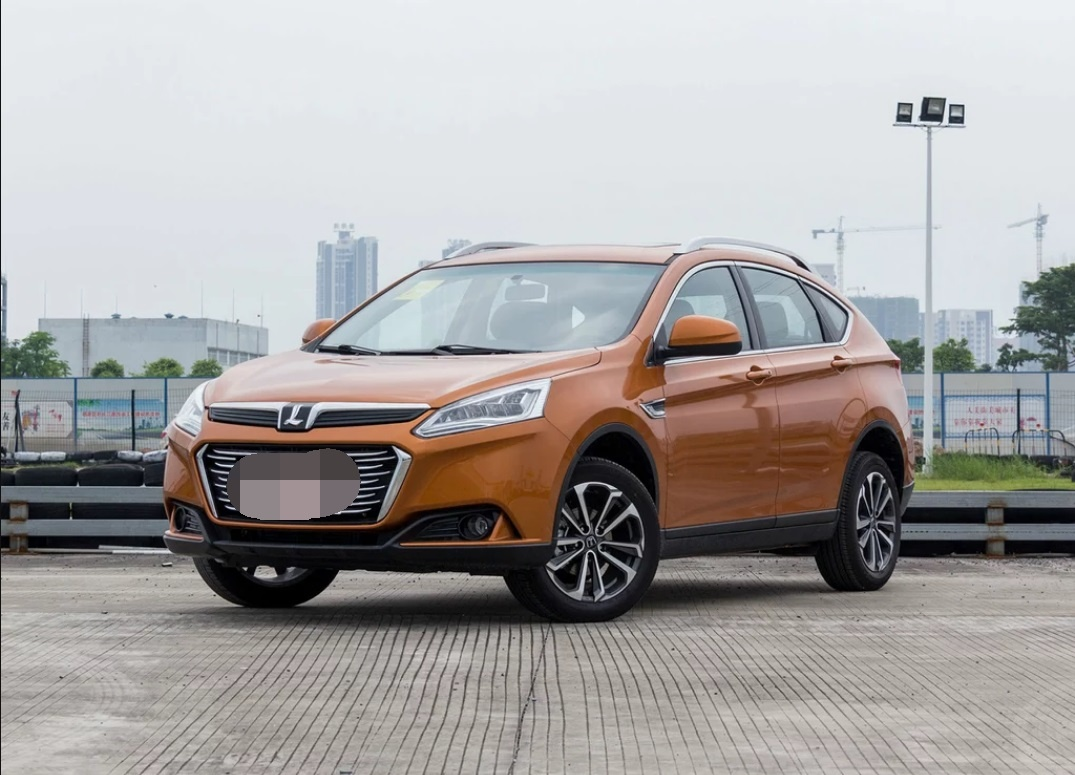SUV: (171, 195, 930, 623)
